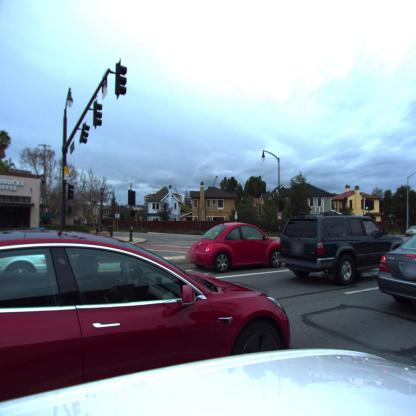car: (0, 233, 292, 414), (278, 214, 406, 286), (187, 223, 284, 274), (376, 232, 416, 318), (405, 226, 415, 236)
traffic light: (117, 63, 129, 97), (94, 103, 105, 128), (80, 124, 90, 145), (67, 184, 75, 201), (128, 190, 136, 206)
